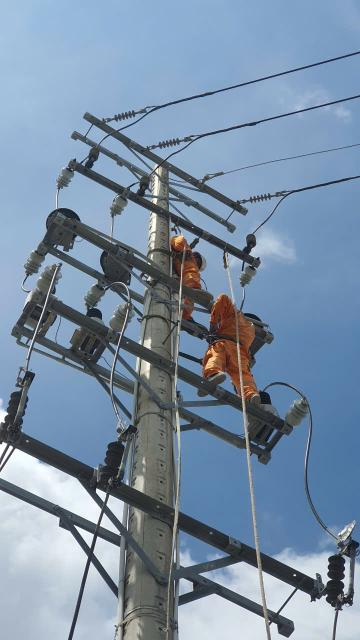helmet: (194, 248, 213, 270)
shoes: (196, 368, 232, 404), (244, 392, 264, 421)
